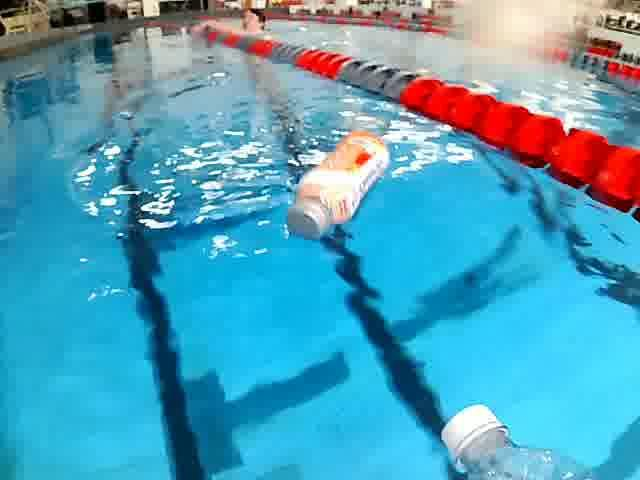Bottle: (435, 394, 601, 480), (281, 125, 393, 247)
